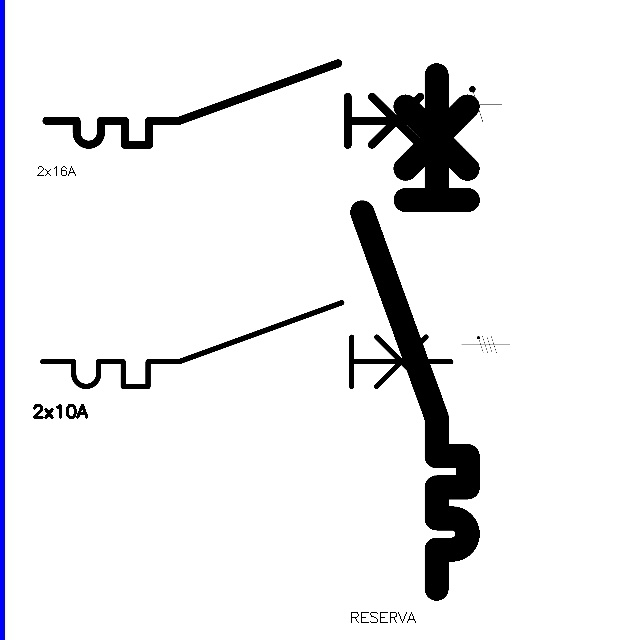interruptor_termomagnetico: (349, 62, 481, 602), (32, 292, 462, 397), (36, 53, 455, 155)
